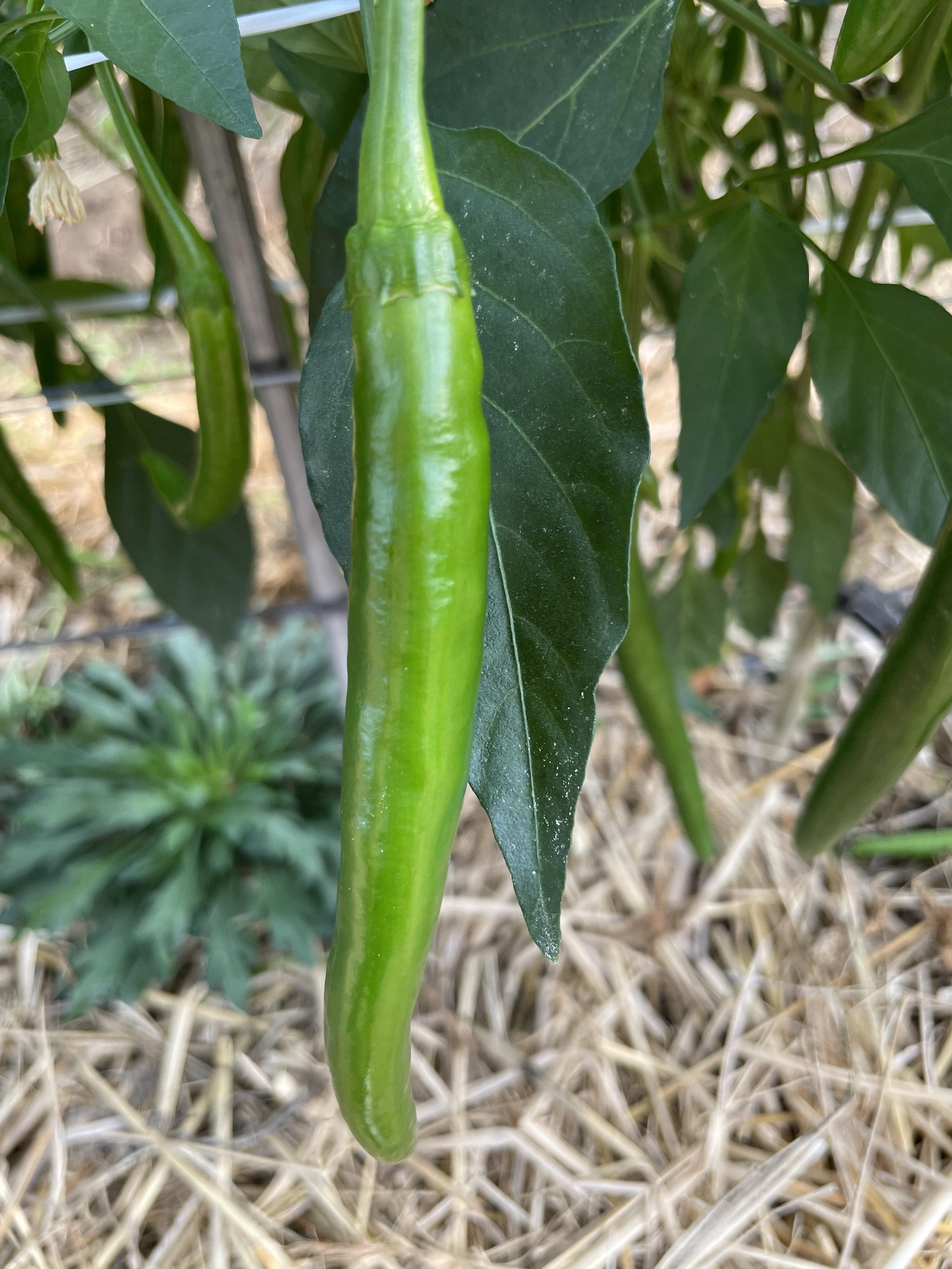Buah Cabai Sehat: (319, 175, 493, 1164), (135, 234, 254, 537)
Daun Cabai Sehat: (675, 189, 806, 532), (810, 262, 952, 569)
